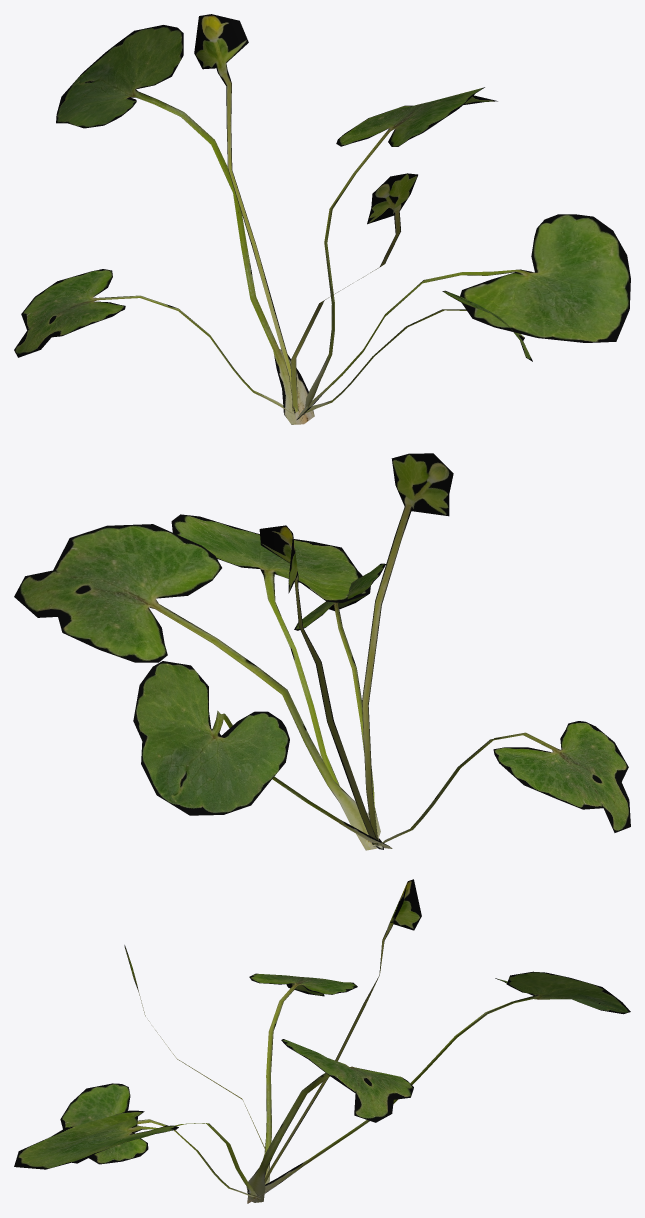
File: celandine_01_4.gltf
3 renders of one model, top to bottom at view 1: azimuth 30°, elevation 25°; view 2: azimuth 150°, elevation 25°; view 3: azimuth 270°, elevation 25°, orthographic. The views are drawn at different scales.
Parts seen in each view (by area): view 1: celandine_01_e_LOD0; view 2: celandine_01_e_LOD0; view 3: celandine_01_e_LOD0.
Boxes of the visible parts, x1=… form: celandine_01_e_LOD0: x1=14, y1=14, x2=630, y2=424; celandine_01_e_LOD0: x1=14, y1=453, x2=630, y2=850; celandine_01_e_LOD0: x1=14, y1=879, x2=630, y2=1203.
Size of the model in its own units: 0.1883 by 0.1237 by 0.2163.
1 material, 1 textured.
